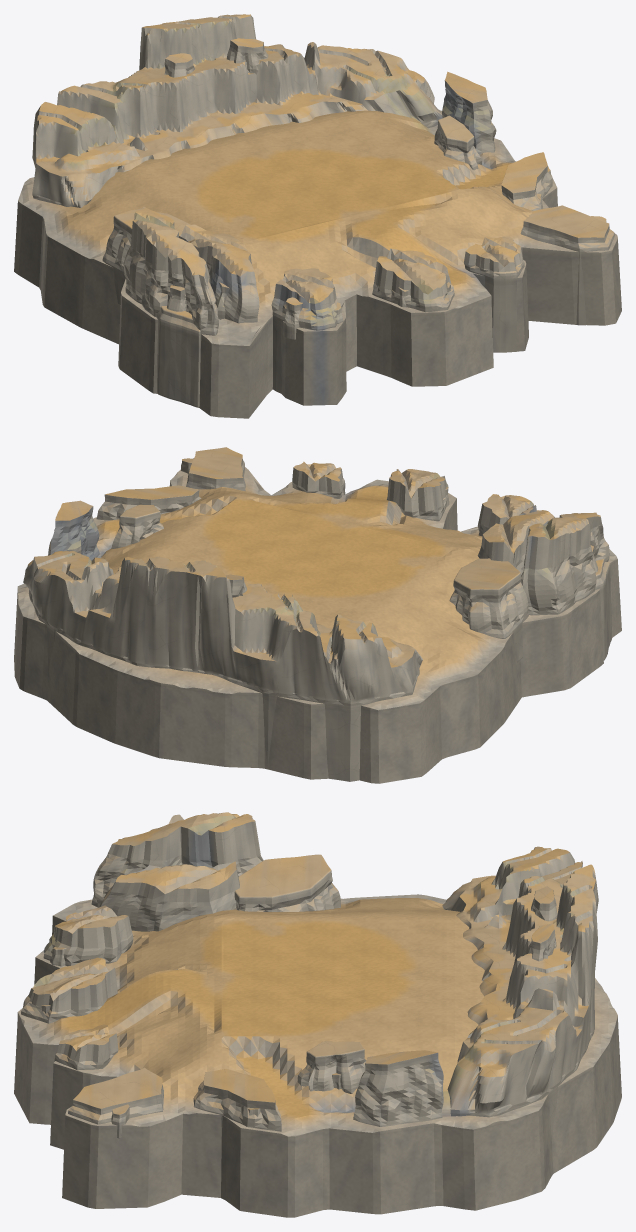
File: projects-island-v2-r8.glb
3 renders of one model, top to bottom at view 1: azimuth 30°, elevation 25°; view 2: azimuth 150°, elevation 25°; view 3: azimuth 270°, elevation 25°, orthographic. The views are drawn at different scales.
Parts seen in each view (by area): view 1: ProjectsIsland_V2_Continuous_Connected_Coast_And_Bedrock, ProjectsIsland_V2_Integrated_Rear_Ridge, ProjectsIsland_V2_West_Front_Outer_Cleft_Buttress, ProjectsIsland_V2_West_Front_Inner_Cleft_Buttress, ProjectsIsland_V2_Front_East_Short_Finger, ProjectsIsland_V2_Front_Central_Long_Finger, ProjectsIsland_V2_West_Toe_Grounded_Not_Hanging, ProjectsIsland_V2_Front_Left_Principal_Finger, ProjectsIsland_V2_Southeast_Low_Access_Headland, ProjectsIsland_V2_East_Waterfall_Channel_Rear_Bank, ProjectsIsland_V2_East_Ledge_North_Of_Access, ProjectsIsland_V2_West_Low_Shelf_Before_Cleft (+4 smaller); view 2: ProjectsIsland_V2_Continuous_Connected_Coast_And_Bedrock, ProjectsIsland_V2_Integrated_Rear_Ridge, ProjectsIsland_V2_West_Front_Outer_Cleft_Buttress, ProjectsIsland_V2_Rear_Connected_Low_Saddle, ProjectsIsland_V2_West_Low_Shelf_Before_Cleft, ProjectsIsland_V2_Front_Central_Long_Finger, ProjectsIsland_V2_West_Front_Inner_Cleft_Buttress, ProjectsIsland_V2_East_Waterfall_Channel_Rear_Bank, ProjectsIsland_V2_East_Ledge_North_Of_Access, ProjectsIsland_V2_Southeast_Low_Access_Headland, ProjectsIsland_V2_Front_East_Short_Finger, ProjectsIsland_V2_East_Waterfall_Channel_Front_Bank (+2 smaller); view 3: ProjectsIsland_V2_Continuous_Connected_Coast_And_Bedrock, ProjectsIsland_V2_Integrated_Rear_Ridge, ProjectsIsland_V2_West_Front_Outer_Cleft_Buttress, ProjectsIsland_V2_West_Front_Inner_Cleft_Buttress, ProjectsIsland_V2_East_Waterfall_Channel_Rear_Bank, ProjectsIsland_V2_West_Low_Shelf_Before_Cleft, ProjectsIsland_V2_Front_Central_Long_Finger, ProjectsIsland_V2_East_Ledge_North_Of_Access, ProjectsIsland_V2_Front_Left_Principal_Finger, ProjectsIsland_V2_Southeast_Low_Access_Headland, ProjectsIsland_V2_East_Waterfall_Channel_Front_Bank, ProjectsIsland_V2_Front_East_Short_Finger (+3 smaller).
Part boxes in pixels (x1,y1,x2,y2): ProjectsIsland_V2_Continuous_Connected_Coast_And_Bedrock: (14,109,621,418); ProjectsIsland_V2_Integrated_Rear_Ridge: (32,14,442,207); ProjectsIsland_V2_West_Front_Outer_Cleft_Buttress: (123,206,218,347); ProjectsIsland_V2_West_Front_Inner_Cleft_Buttress: (179,224,259,323); ProjectsIsland_V2_Front_East_Short_Finger: (464,236,524,352); ProjectsIsland_V2_Front_Central_Long_Finger: (372,248,454,312); ProjectsIsland_V2_West_Toe_Grounded_Not_Hanging: (156,306,200,407); ProjectsIsland_V2_Front_Left_Principal_Finger: (271,268,338,393); ProjectsIsland_V2_Southeast_Low_Access_Headland: (520,205,614,325); ProjectsIsland_V2_East_Waterfall_Channel_Rear_Bank: (442,71,496,154); ProjectsIsland_V2_East_Ledge_North_Of_Access: (501,152,552,210); ProjectsIsland_V2_West_Low_Shelf_Before_Cleft: (102,209,190,305); ProjectsIsland_V2_Continuous_Connected_Coast_And_Bedrock: (14,467,621,783); ProjectsIsland_V2_Integrated_Rear_Ridge: (23,550,422,703); ProjectsIsland_V2_West_Front_Outer_Cleft_Buttress: (521,512,609,615); ProjectsIsland_V2_Rear_Connected_Low_Saddle: (28,591,417,781); ProjectsIsland_V2_West_Low_Shelf_Before_Cleft: (449,558,528,662); ProjectsIsland_V2_Front_Central_Long_Finger: (386,469,448,521); ProjectsIsland_V2_West_Front_Inner_Cleft_Buttress: (477,510,554,575); ProjectsIsland_V2_East_Waterfall_Channel_Rear_Bank: (48,500,99,560); ProjectsIsland_V2_East_Ledge_North_Of_Access: (96,485,201,520); ProjectsIsland_V2_Southeast_Low_Access_Headland: (186,447,245,491); ProjectsIsland_V2_Front_East_Short_Finger: (292,461,345,498); ProjectsIsland_V2_East_Waterfall_Channel_Front_Bank: (111,504,163,548); ProjectsIsland_V2_Continuous_Connected_Coast_And_Bedrock: (14,894,621,1217); ProjectsIsland_V2_Integrated_Rear_Ridge: (442,846,598,1113); ProjectsIsland_V2_West_Front_Outer_Cleft_Buttress: (91,812,263,907); ProjectsIsland_V2_West_Front_Inner_Cleft_Buttress: (99,861,239,931); ProjectsIsland_V2_East_Waterfall_Channel_Rear_Bank: (353,1050,443,1126); ProjectsIsland_V2_West_Low_Shelf_Before_Cleft: (234,854,340,911); ProjectsIsland_V2_Front_Central_Long_Finger: (21,957,117,1023); ProjectsIsland_V2_East_Ledge_North_Of_Access: (193,1069,281,1135); ProjectsIsland_V2_Front_Left_Principal_Finger: (43,905,133,966); ProjectsIsland_V2_Southeast_Low_Access_Headland: (68,1067,163,1124); ProjectsIsland_V2_East_Waterfall_Channel_Front_Bank: (297,1041,366,1093); ProjectsIsland_V2_Front_East_Short_Finger: (54,1024,118,1070).
Size of the model in its own units: 68.72 by 26.27 by 70.88.
Materials: 2 (2 with a texture image).
